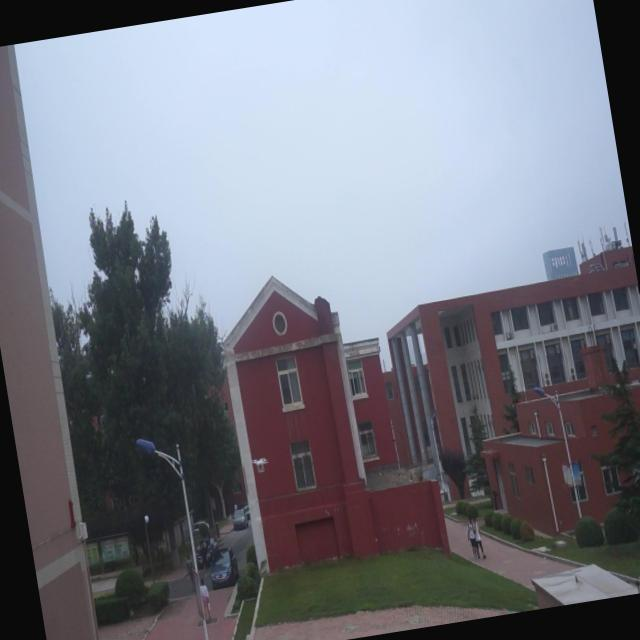drone: (250, 450, 272, 476)
